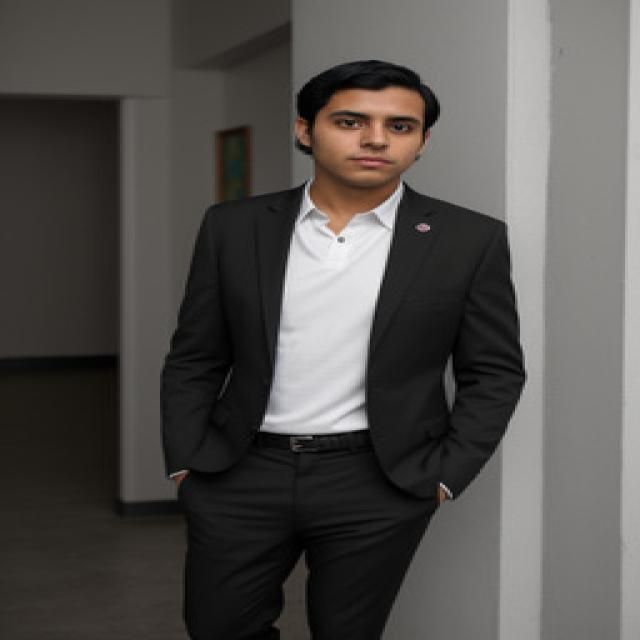Ai human 2: (145, 45, 543, 640)
